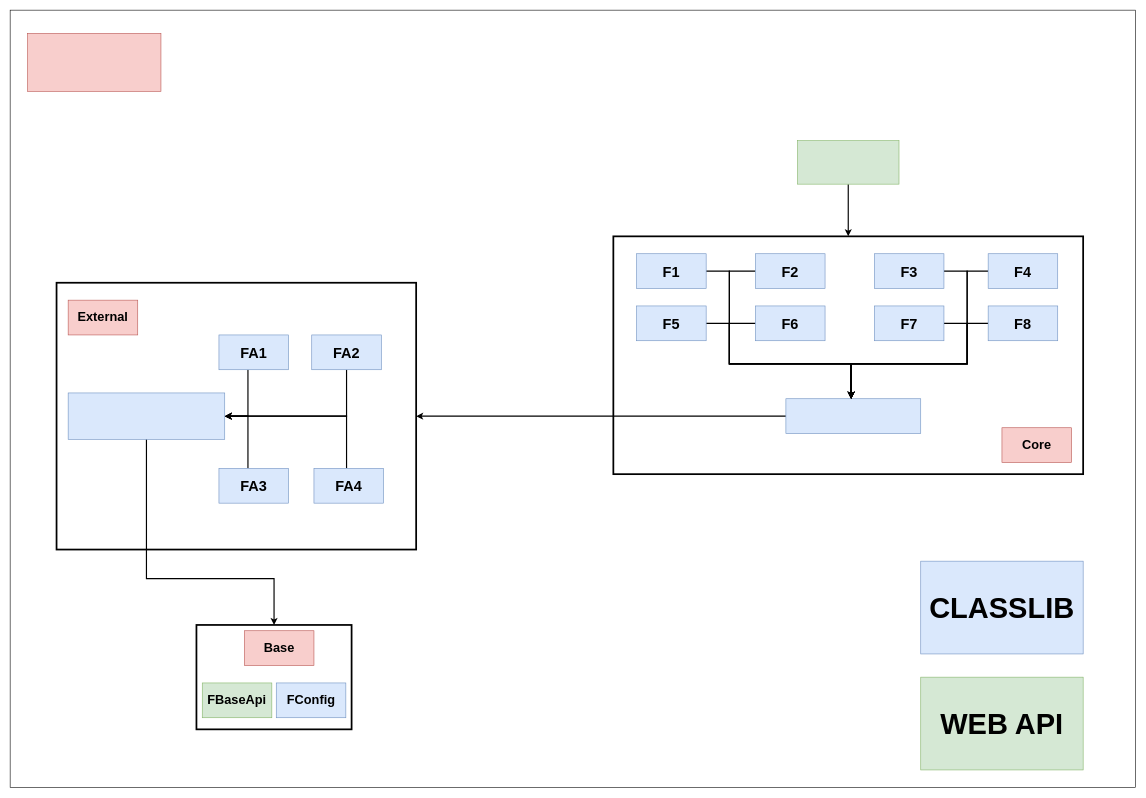
The diagram is 1146 pixels wide and 798 high, and some of its shapes have lost their labels. The centre of each missing label's shape, as x and y in pixels:
"Entry" belongs at pixel 848 162.
"FACommon" belongs at pixel 146 415.
"FCommon" belongs at pixel 853 416.
"Src" belongs at pixel 94 62.
